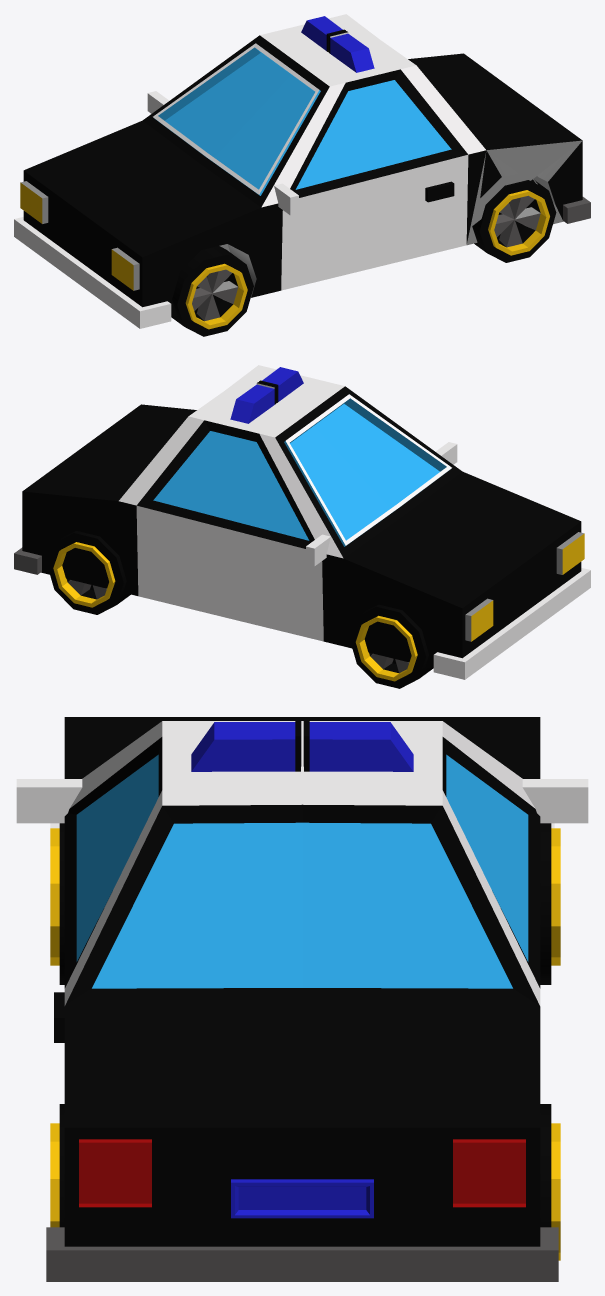
Rendered from buildingPart7.FBX.
The picture shows the model from 3 angles, top to bottom: view 1: azimuth 30°, elevation 25°; view 2: azimuth 150°, elevation 25°; view 3: azimuth 270°, elevation 25°; orthographic projection. The views are drawn at different scales.
Parts seen in each view (by area): view 1: Box001, Cylinder001, Cylinder002, Box002; view 2: Box001, Cylinder004, Cylinder003; view 3: Box001, Cylinder004, Cylinder003, Cylinder001, Cylinder002.
Part boxes in pixels (x1,y1,x2,y2): Box001: [14, 14, 590, 328]; Cylinder001: [172, 246, 253, 336]; Cylinder002: [472, 179, 556, 262]; Box002: [425, 181, 454, 202]; Box001: [14, 365, 590, 679]; Cylinder004: [349, 604, 432, 688]; Cylinder003: [47, 531, 130, 614]; Box001: [16, 717, 588, 1281]; Cylinder004: [540, 823, 560, 984]; Cylinder003: [540, 1104, 560, 1260]; Cylinder001: [50, 823, 64, 984]; Cylinder002: [50, 1104, 64, 1227].
Bounding box in the file's own units: 155 × 69.57 × 84.97.
